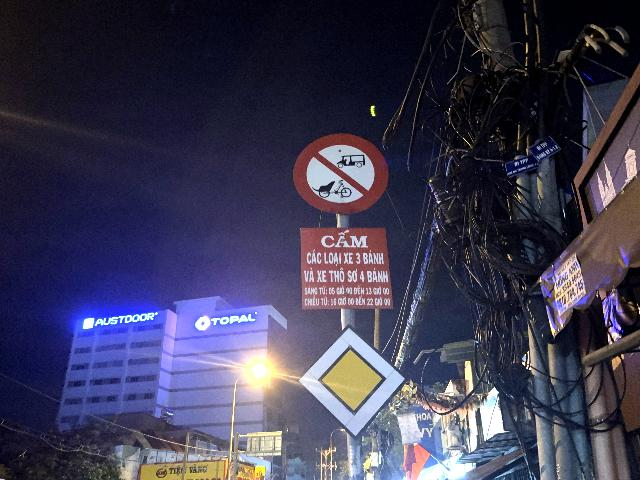bat-dau-duong-uu-tien: (297, 323, 409, 440)
cam-xe-3-banh-xe-tho-so-4-banh: (292, 132, 389, 215)
